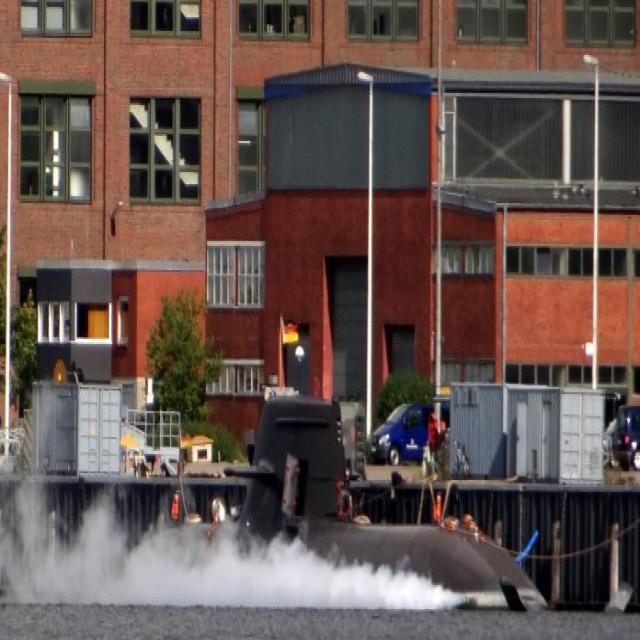submarine: (39, 400, 548, 615)
